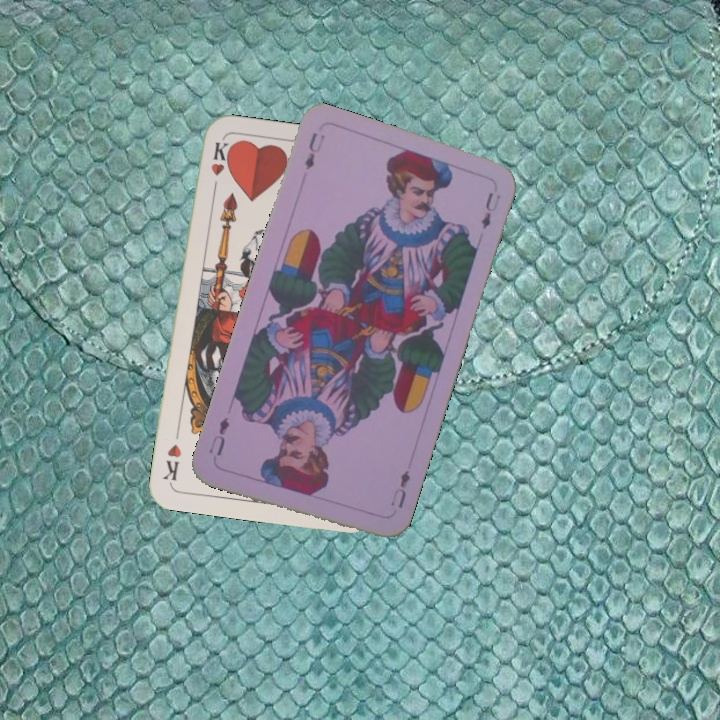EU: (387, 460, 414, 512), (300, 128, 328, 173)
HK: (207, 137, 230, 197)
